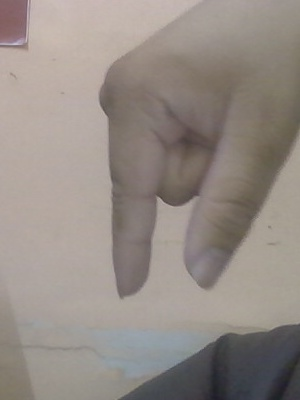Q: (99, 1, 300, 299)
